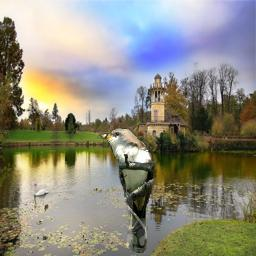Cuckoo: (97, 128, 157, 253)
